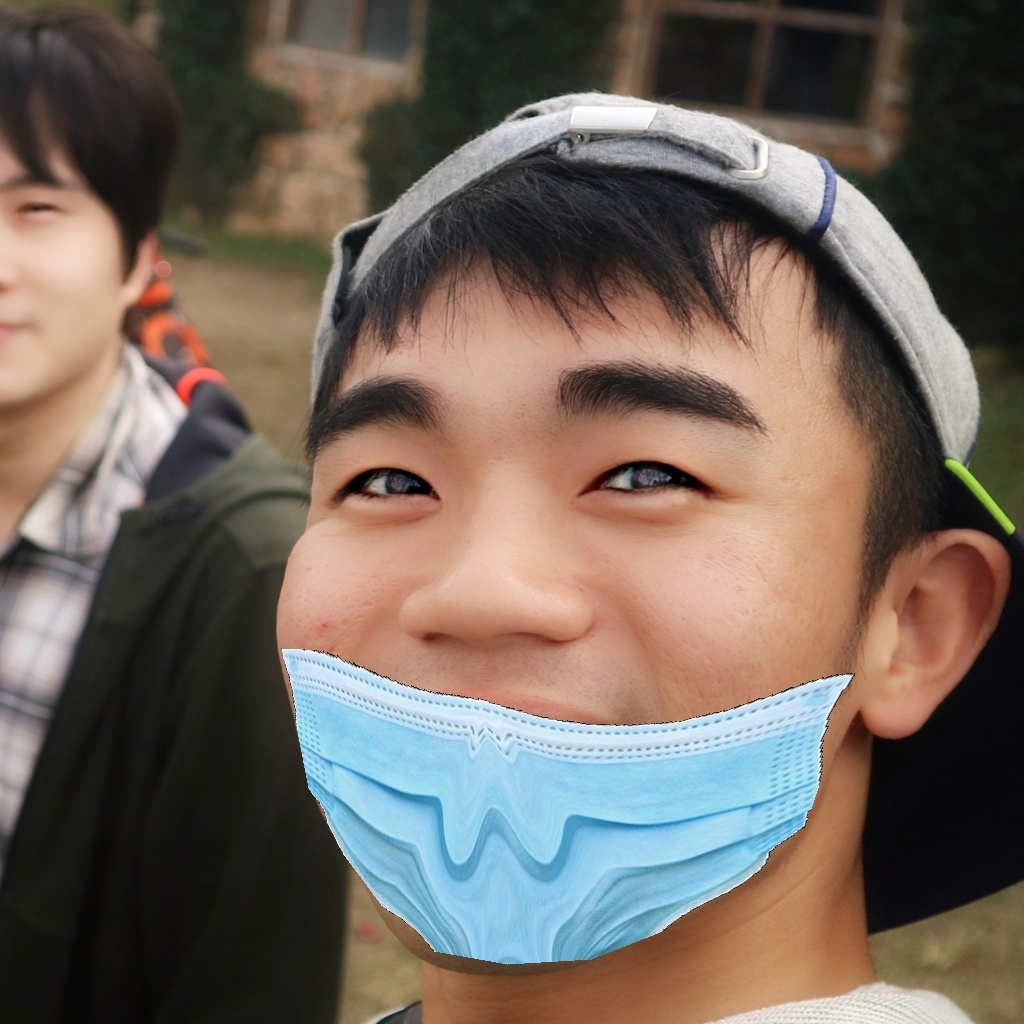mask_weared_incorrect: (252, 366, 887, 987)
